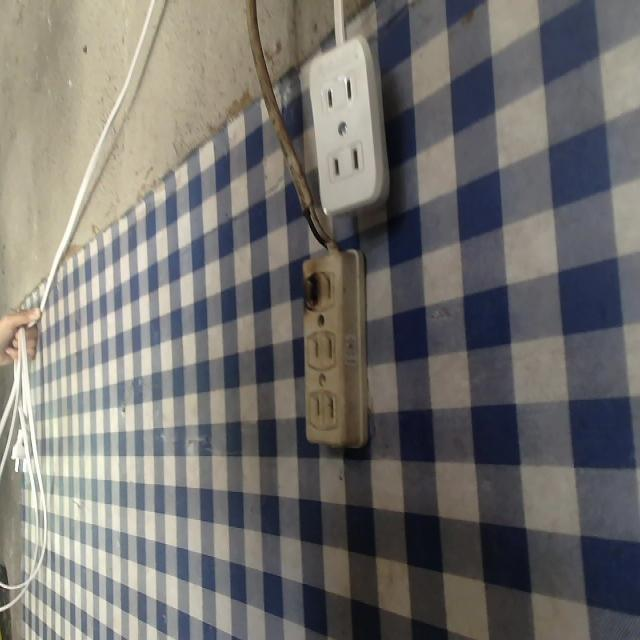-: (299, 264, 323, 313)
